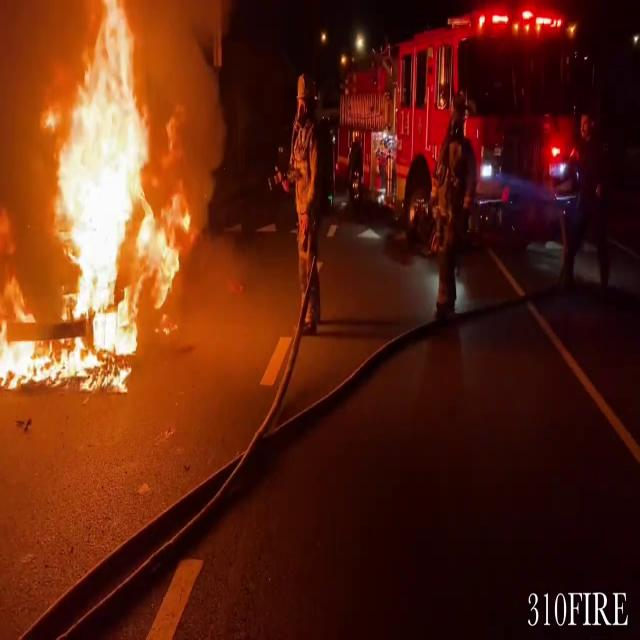Fire: (0, 0, 189, 392)
